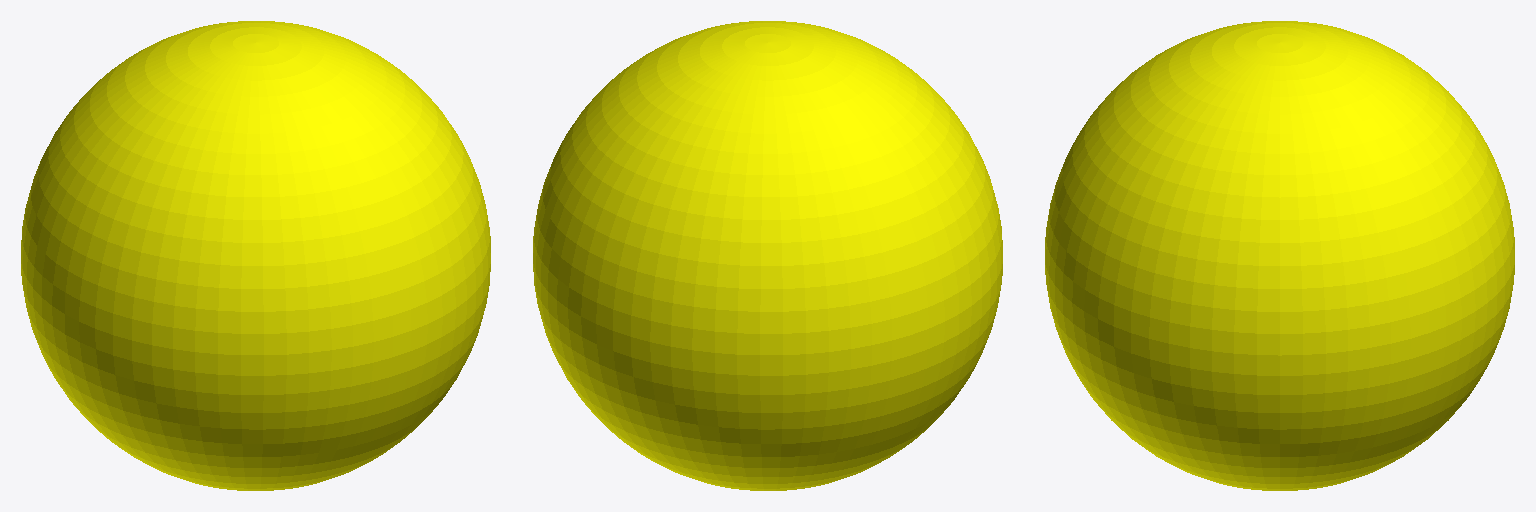
Rendered from YellowBall.obj.
3 views of the same model, side by side, from view 1: azimuth 30°, elevation 25°; view 2: azimuth 150°, elevation 25°; view 3: azimuth 270°, elevation 25° (orthographic).
Visible parts, largest first — view 1: object_1; view 2: object_1; view 3: object_1.
Part boxes in pixels (x1,y1,x2,y2): object_1: (21, 21, 490, 490); object_1: (533, 21, 1002, 490); object_1: (1045, 21, 1514, 490).
Bounding box in the file's own units: 2 × 2 × 2.